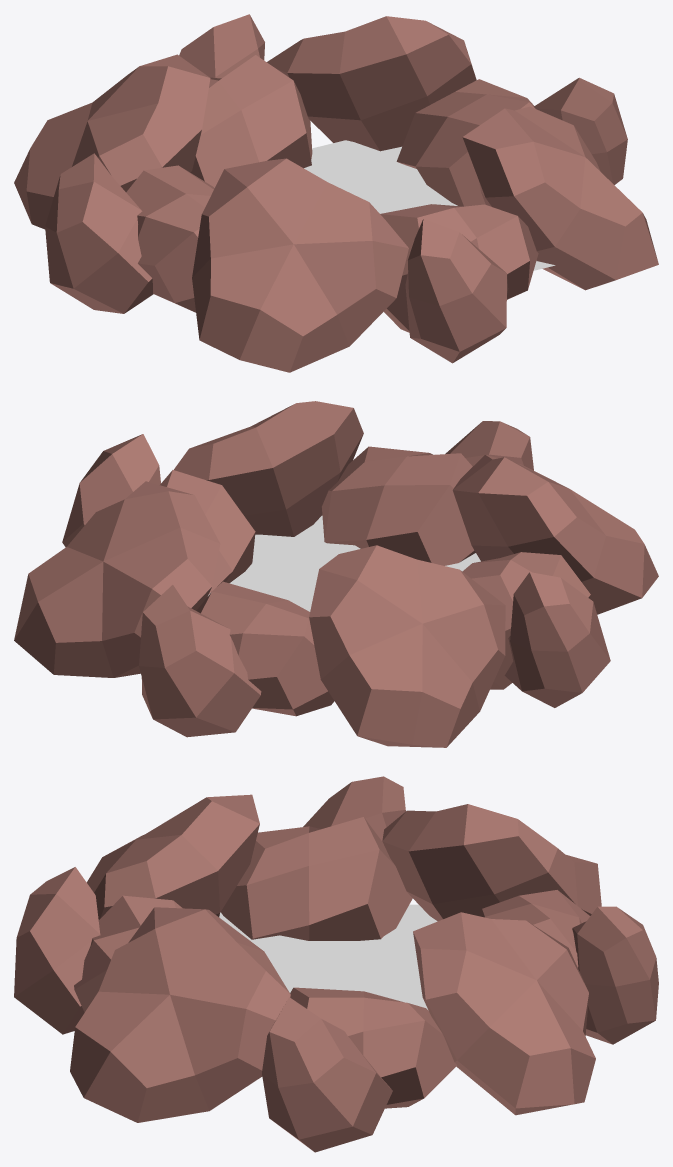
File: Lava Rocks.fbx
The picture shows the model from 3 angles, top to bottom: view 1: azimuth 30°, elevation 25°; view 2: azimuth 150°, elevation 25°; view 3: azimuth 270°, elevation 25°; orthographic projection. The views are drawn at different scales.
Parts seen in each view (by area): view 1: Lava rock; view 2: Lava rock; view 3: Lava rock.
Part boxes in pixels (<box>): Lava rock: <box>14,14,658,372</box>; Lava rock: <box>14,401,658,747</box>; Lava rock: <box>14,776,658,1152</box>.
Bounding box in the file's own units: 3.46 × 1.06 × 3.46.
